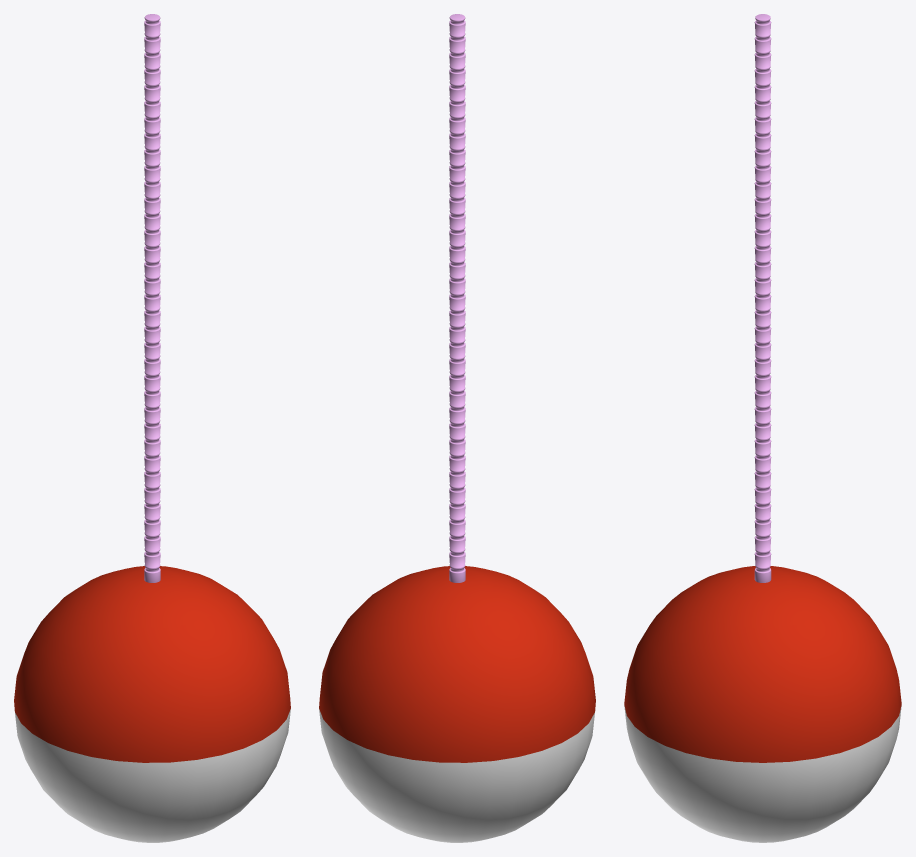
The model's file is red-trap-circle.glb.
The picture shows the model from 3 angles, left to right: view 1: azimuth 30°, elevation 25°; view 2: azimuth 150°, elevation 25°; view 3: azimuth 270°, elevation 25°; orthographic projection.
Parts seen in each view (by area): view 1: Trap_circle_red.001; view 2: Trap_circle_red.001; view 3: Trap_circle_red.001.
Part boxes in pixels (x1,y1,x2,y2): Trap_circle_red.001: (14, 14, 290, 842); Trap_circle_red.001: (319, 14, 595, 842); Trap_circle_red.001: (624, 14, 901, 842).
Size of the model in its own units: 1.71 by 5.52 by 1.71.
Materials: 1 (1 with a texture image).
